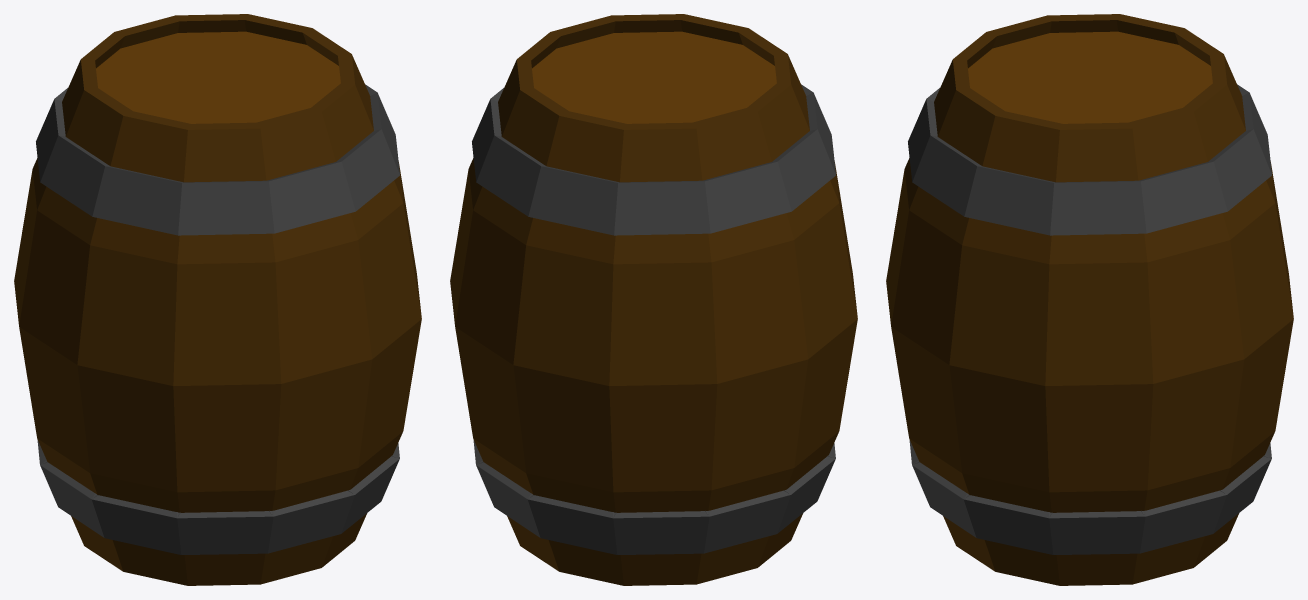
File: Barrel.fbx
3 renders of one model, left to right at view 1: azimuth 30°, elevation 25°; view 2: azimuth 150°, elevation 25°; view 3: azimuth 270°, elevation 25°, orthographic.
Parts seen in each view (by area): view 1: Barrel_Wood, Barrel_Metal; view 2: Barrel_Wood, Barrel_Metal; view 3: Barrel_Wood, Barrel_Metal.
Part boxes in pixels (x1=…): Barrel_Wood: x1=14, y1=14, x2=421, y2=585; Barrel_Metal: x1=36, y1=84, x2=399, y2=554; Barrel_Wood: x1=450, y1=14, x2=857, y2=585; Barrel_Metal: x1=472, y1=84, x2=835, y2=554; Barrel_Wood: x1=886, y1=14, x2=1293, y2=585; Barrel_Metal: x1=908, y1=84, x2=1271, y2=554.
Bounding box in the file's own units: 81.91 × 101 × 81.91.
